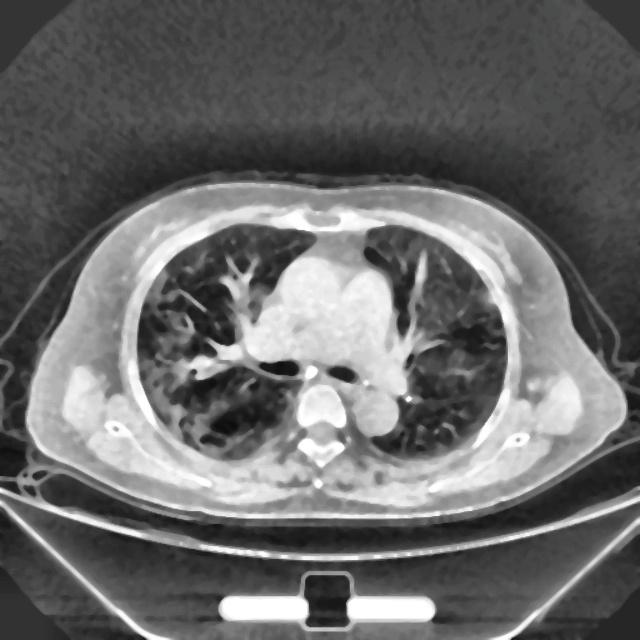covid: (24, 171, 628, 527)
